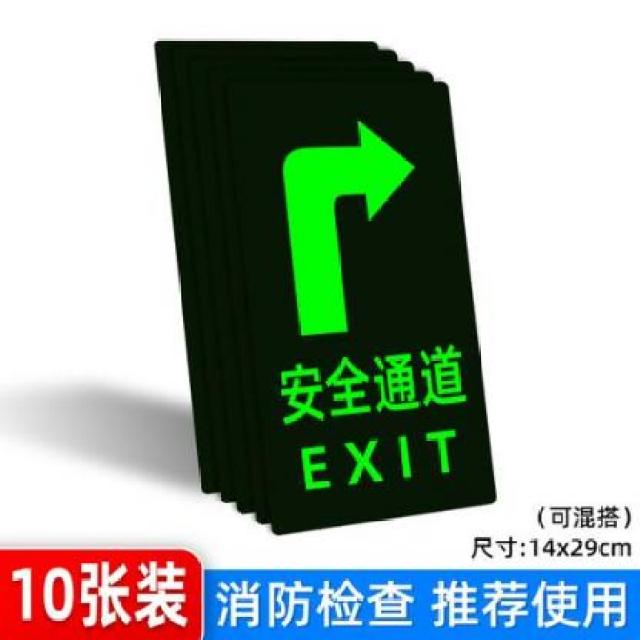exit_sign: (138, 17, 494, 518)
